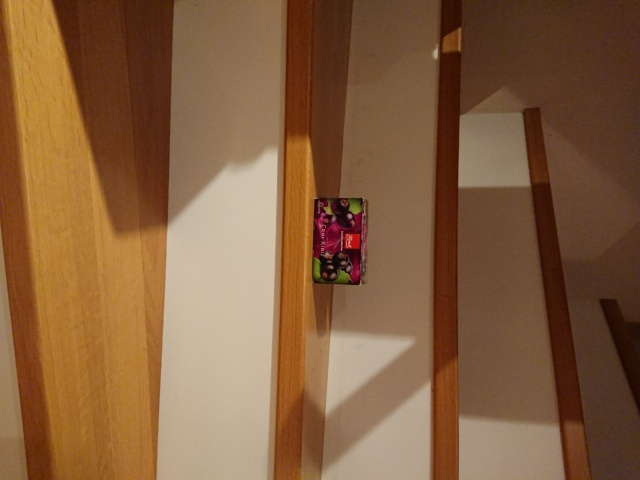Franck Black Currant Tea 60g: (309, 194, 371, 288)
